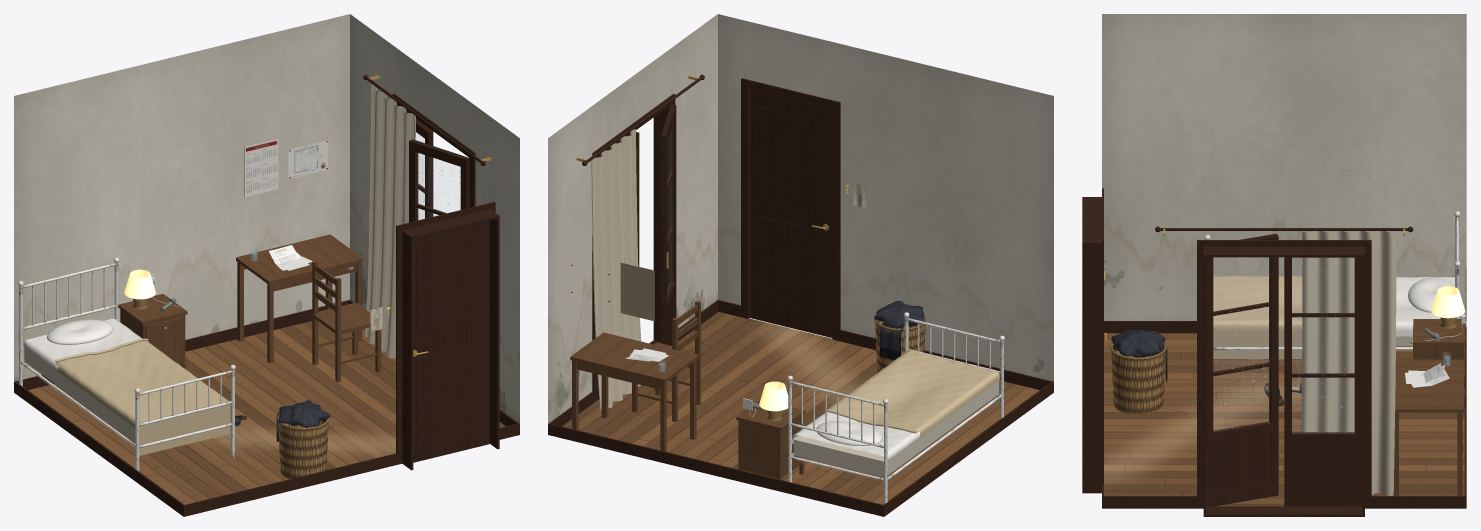
The model's file is quarto_de_servico_v2.glb.
3 renders of one model, left to right at view 1: azimuth 30°, elevation 25°; view 2: azimuth 150°, elevation 25°; view 3: azimuth 270°, elevation 25°, orthographic. The views are drawn at different scales.
Visible parts, largest first — view 1: parede_fundo, piso, parede_jardim, cortina, lencol_afundado_colcha, porta_almofada_2_b, porta_almofada_1_b, porta_folha, mesa_tampo, batente_porta_esq, lencol_afundado_colcha_pe, rodape_3 (+22 smaller); view 2: parede_porta, parede_jardim, piso, cortina, lencol_afundado_colcha, porta_folha, porta_almofada_2_a, porta_almofada_1_a, rodape_1, colchao, mesa_tampo, cabeceira_corpo (+18 smaller); view 3: parede_cama, piso, cortina, lencol_afundado_colcha, batente_porta_dir, porta_janela_folha_a_almofada, mesa_tampo, cesto_vime, porta_janela_folha_b_almofada, porta_janela_folha_b_montante_b, porta_janela_folha_a_montante_a, porta_janela_folha_a_montante_b (+28 smaller).
Boxes of the visible parts, left/top/right/bottom form: parede_fundo: left=14, top=14, right=349, bottom=381; piso: left=28, top=321, right=505, bottom=504; parede_jardim: left=350, top=14, right=519, bottom=423; cortina: left=365, top=84, right=415, bottom=358; lencol_afundado_colcha: left=54, top=340, right=230, bottom=431; porta_almofada_2_b: left=416, top=342, right=481, bottom=449; porta_almofada_1_b: left=416, top=232, right=481, bottom=336; porta_folha: left=413, top=220, right=489, bottom=462; mesa_tampo: left=236, top=234, right=363, bottom=284; batente_porta_esq: left=402, top=230, right=413, bottom=470; lencol_afundado_colcha_pe: left=139, top=401, right=230, bottom=455; rodape_3: left=183, top=453, right=396, bottom=516; parede_porta: left=718, top=14, right=1053, bottom=381; parede_jardim: left=548, top=14, right=717, bottom=423; piso: left=562, top=312, right=1039, bottom=504; cortina: left=591, top=129, right=641, bottom=410; lencol_afundado_colcha: left=825, top=350, right=999, bottom=440; porta_folha: left=750, top=89, right=832, bottom=337; porta_almofada_2_a: left=758, top=216, right=823, bottom=323; porta_almofada_1_a: left=758, top=106, right=823, bottom=210; rodape_1: left=548, top=423, right=884, bottom=516; colchao: left=793, top=381, right=998, bottom=477; mesa_tampo: left=570, top=332, right=698, bottom=382; cabeceira_corpo: left=738, top=415, right=803, bottom=479; parede_cama: left=1102, top=14, right=1466, bottom=320; piso: left=1104, top=333, right=1464, bottom=506; cortina: left=1301, top=231, right=1396, bottom=495; lencol_afundado_colcha: left=1213, top=275, right=1302, bottom=359; batente_porta_dir: left=1082, top=242, right=1101, bottom=493; porta_janela_folha_a_almofada: left=1292, top=443, right=1354, bottom=493; mesa_tampo: left=1395, top=359, right=1463, bottom=412; cesto_vime: left=1111, top=347, right=1165, bottom=414; porta_janela_folha_b_almofada: left=1213, top=432, right=1270, bottom=491; porta_janela_folha_b_montante_b: left=1269, top=233, right=1278, bottom=496; porta_janela_folha_a_montante_a: left=1354, top=257, right=1362, bottom=506; porta_janela_folha_a_montante_b: left=1284, top=257, right=1291, bottom=506.
Size of what is drawn, in the model's own units: 3.35 by 2.7 by 2.95.
48 materials, 26 textured.
